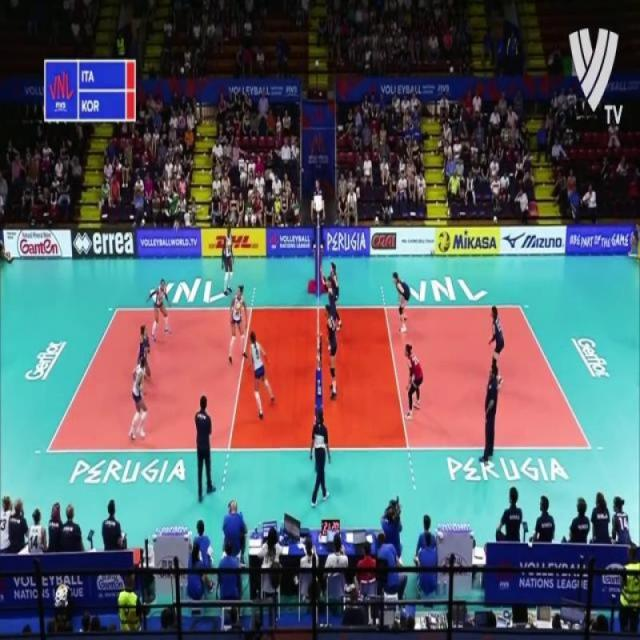volleyball: (438, 232, 450, 252), (172, 219, 179, 234)
